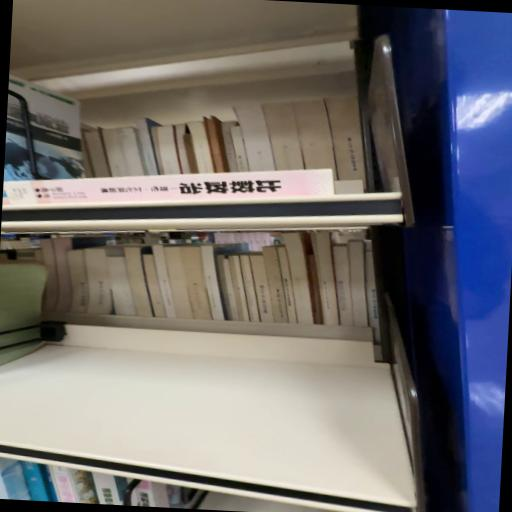flat: (3, 170, 336, 207)
